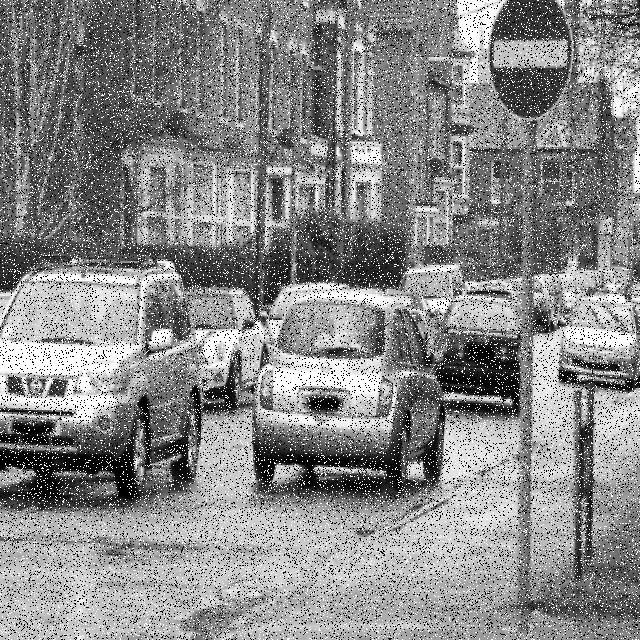no entry: (488, 2, 576, 119)
